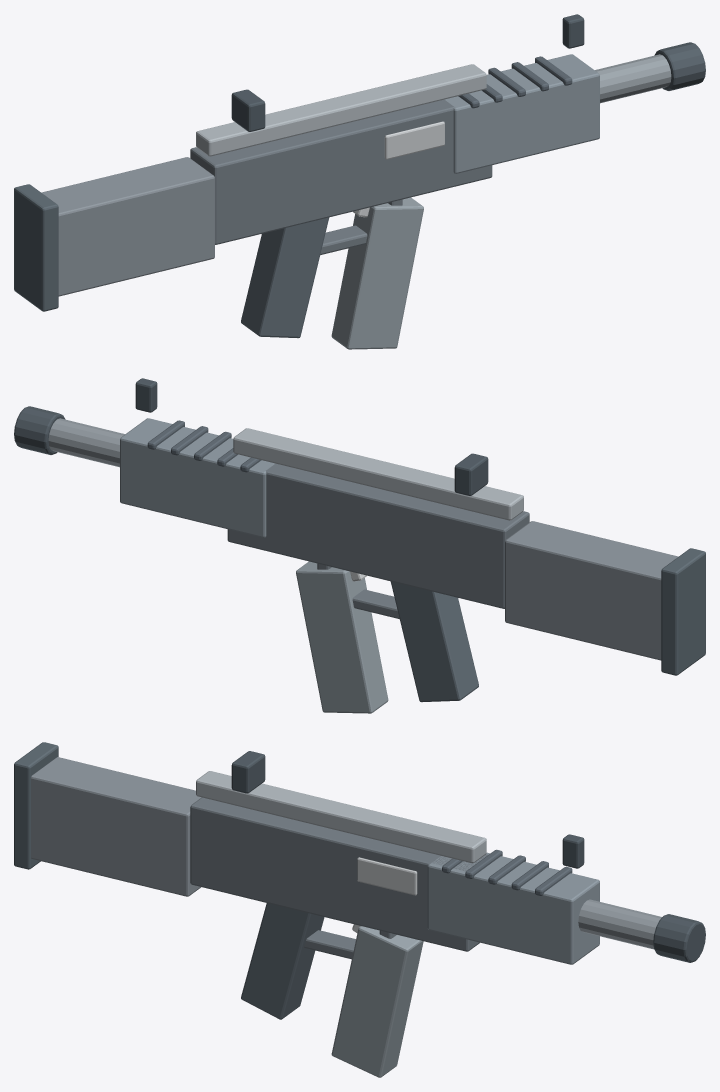
The model's file is rifle.glb.
3 views of the same model, one above another, from view 1: azimuth 30°, elevation 25°; view 2: azimuth 150°, elevation 25°; view 3: azimuth 330°, elevation 25° (orthographic).
Visible parts, largest first — view 1: rifle_机匣, rifle_枪托, rifle_护木, rifle_弹匣, rifle_顶导轨, rifle_握把, rifle_托底, rifle_枪管, rifle_枪口套, rifle_抛壳窗, rifle_照门, rifle_扳机护圈下 (+1 smaller); view 2: rifle_机匣, rifle_枪托, rifle_护木, rifle_弹匣, rifle_顶导轨, rifle_握把, rifle_托底, rifle_枪管, rifle_枪口套, rifle_照门, rifle_扳机护圈下, rifle_准星; view 3: rifle_机匣, rifle_枪托, rifle_护木, rifle_弹匣, rifle_顶导轨, rifle_握把, rifle_枪管, rifle_托底, rifle_枪口套, rifle_抛壳窗, rifle_照门, rifle_扳机护圈下 (+1 smaller).
Part boxes in pixels (x1=…): rifle_机匣: x1=190, y1=99, x2=492, y2=244; rifle_枪托: x1=41, y1=157, x2=214, y2=296; rifle_护木: x1=444, y1=54, x2=599, y2=173; rifle_弹匣: x1=331, y1=197, x2=423, y2=349; rifle_顶导轨: x1=196, y1=64, x2=486, y2=156; rifle_握把: x1=241, y1=217, x2=329, y2=338; rifle_托底: x1=14, y1=184, x2=58, y2=311; rifle_枪管: x1=595, y1=54, x2=671, y2=103; rifle_枪口套: x1=654, y1=42, x2=705, y2=90; rifle_抛壳窗: x1=384, y1=121, x2=444, y2=159; rifle_照门: x1=231, y1=89, x2=265, y2=131; rifle_扳机护圈下: x1=320, y1=225, x2=367, y2=254; rifle_机匣: x1=227, y1=463, x2=529, y2=608; rifle_枪托: x1=505, y1=521, x2=678, y2=660; rifle_护木: x1=120, y1=418, x2=275, y2=537; rifle_弹匣: x1=296, y1=561, x2=388, y2=713; rifle_顶导轨: x1=233, y1=428, x2=523, y2=520; rifle_握把: x1=390, y1=581, x2=478, y2=702; rifle_托底: x1=661, y1=548, x2=705, y2=675; rifle_枪管: x1=48, y1=418, x2=124, y2=467; rifle_枪口套: x1=14, y1=406, x2=65, y2=454; rifle_照门: x1=454, y1=453, x2=488, y2=495; rifle_扳机护圈下: x1=352, y1=589, x2=399, y2=618; rifle_准星: x1=135, y1=378, x2=157, y2=412; rifle_机匣: x1=190, y1=797, x2=488, y2=951; rifle_枪托: x1=31, y1=757, x2=201, y2=896; rifle_护木: x1=427, y1=852, x2=599, y2=964; rifle_弹匣: x1=331, y1=926, x2=423, y2=1077; rifle_顶导轨: x1=196, y1=771, x2=486, y2=863; rifle_握把: x1=241, y1=903, x2=324, y2=1019; rifle_枪管: x1=578, y1=899, x2=661, y2=949; rifle_托底: x1=14, y1=742, x2=58, y2=869; rifle_枪口套: x1=653, y1=914, x2=705, y2=962; rifle_抛壳窗: x1=357, y1=857, x2=417, y2=895; rifle_照门: x1=231, y1=751, x2=265, y2=793; rifle_扳机护圈下: x1=304, y1=930, x2=355, y2=959.
Bounding box in the file's own units: 1.01 × 0.4032 × 0.082.
